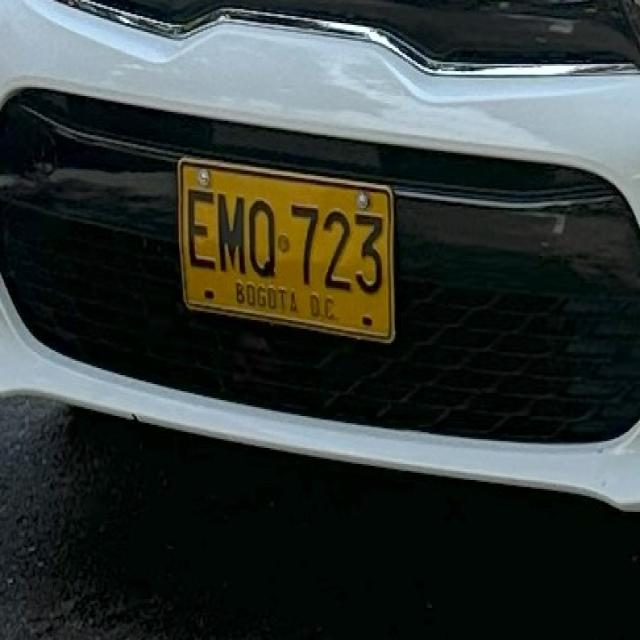number plate: (176, 156, 392, 340)
